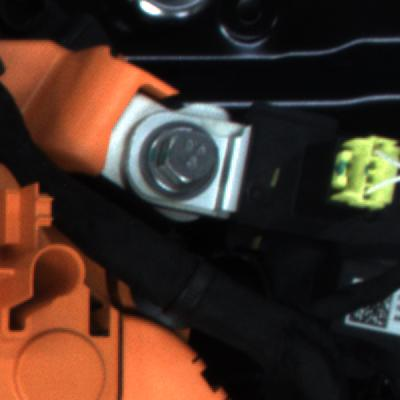nut_b: (138, 113, 226, 206)
